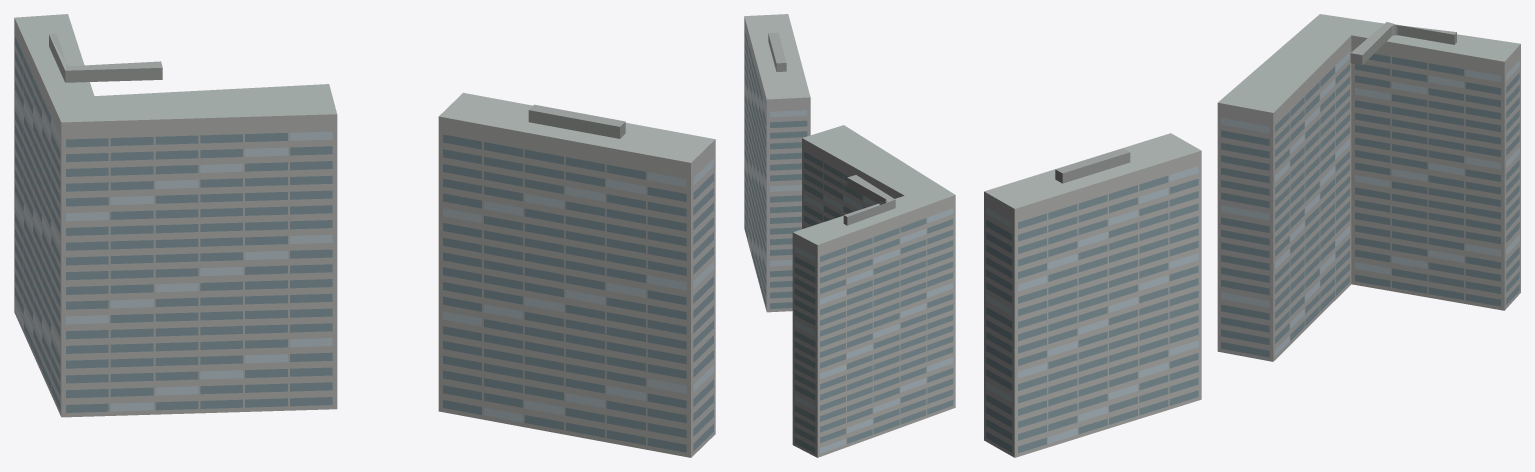
The model's file is apt-a12208102.glb.
The picture shows the model from 3 angles, left to right: view 1: azimuth 30°, elevation 25°; view 2: azimuth 150°, elevation 25°; view 3: azimuth 270°, elevation 25°; orthographic projection. The views are drawn at different scales.
Parts seen in each view (by area): view 1: apt-a12208102; view 2: apt-a12208102; view 3: apt-a12208102.
Part boxes in pixels (left/top/right/bottom): apt-a12208102: left=14, top=14, right=715, bottom=457; apt-a12208102: left=744, top=14, right=955, bottom=457; apt-a12208102: left=984, top=14, right=1520, bottom=457.
Bounding box in the file's own units: 98.43 × 61 × 115.
